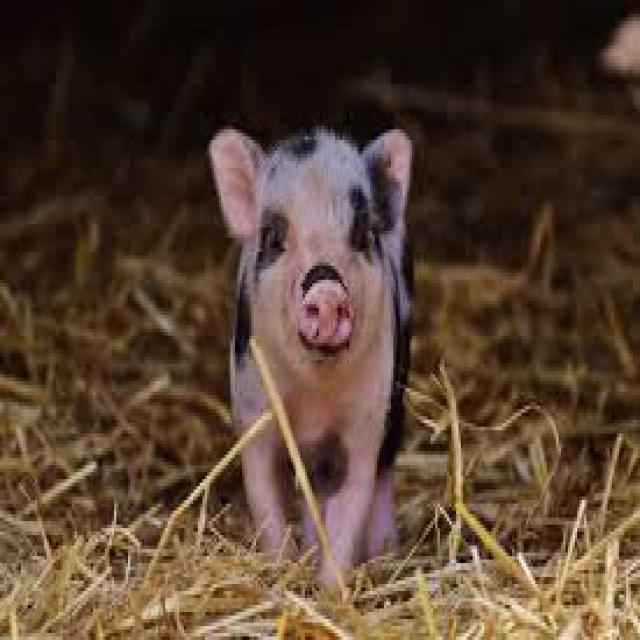pig: (209, 126, 412, 581)
